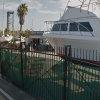Boat: (42, 6, 100, 63)
